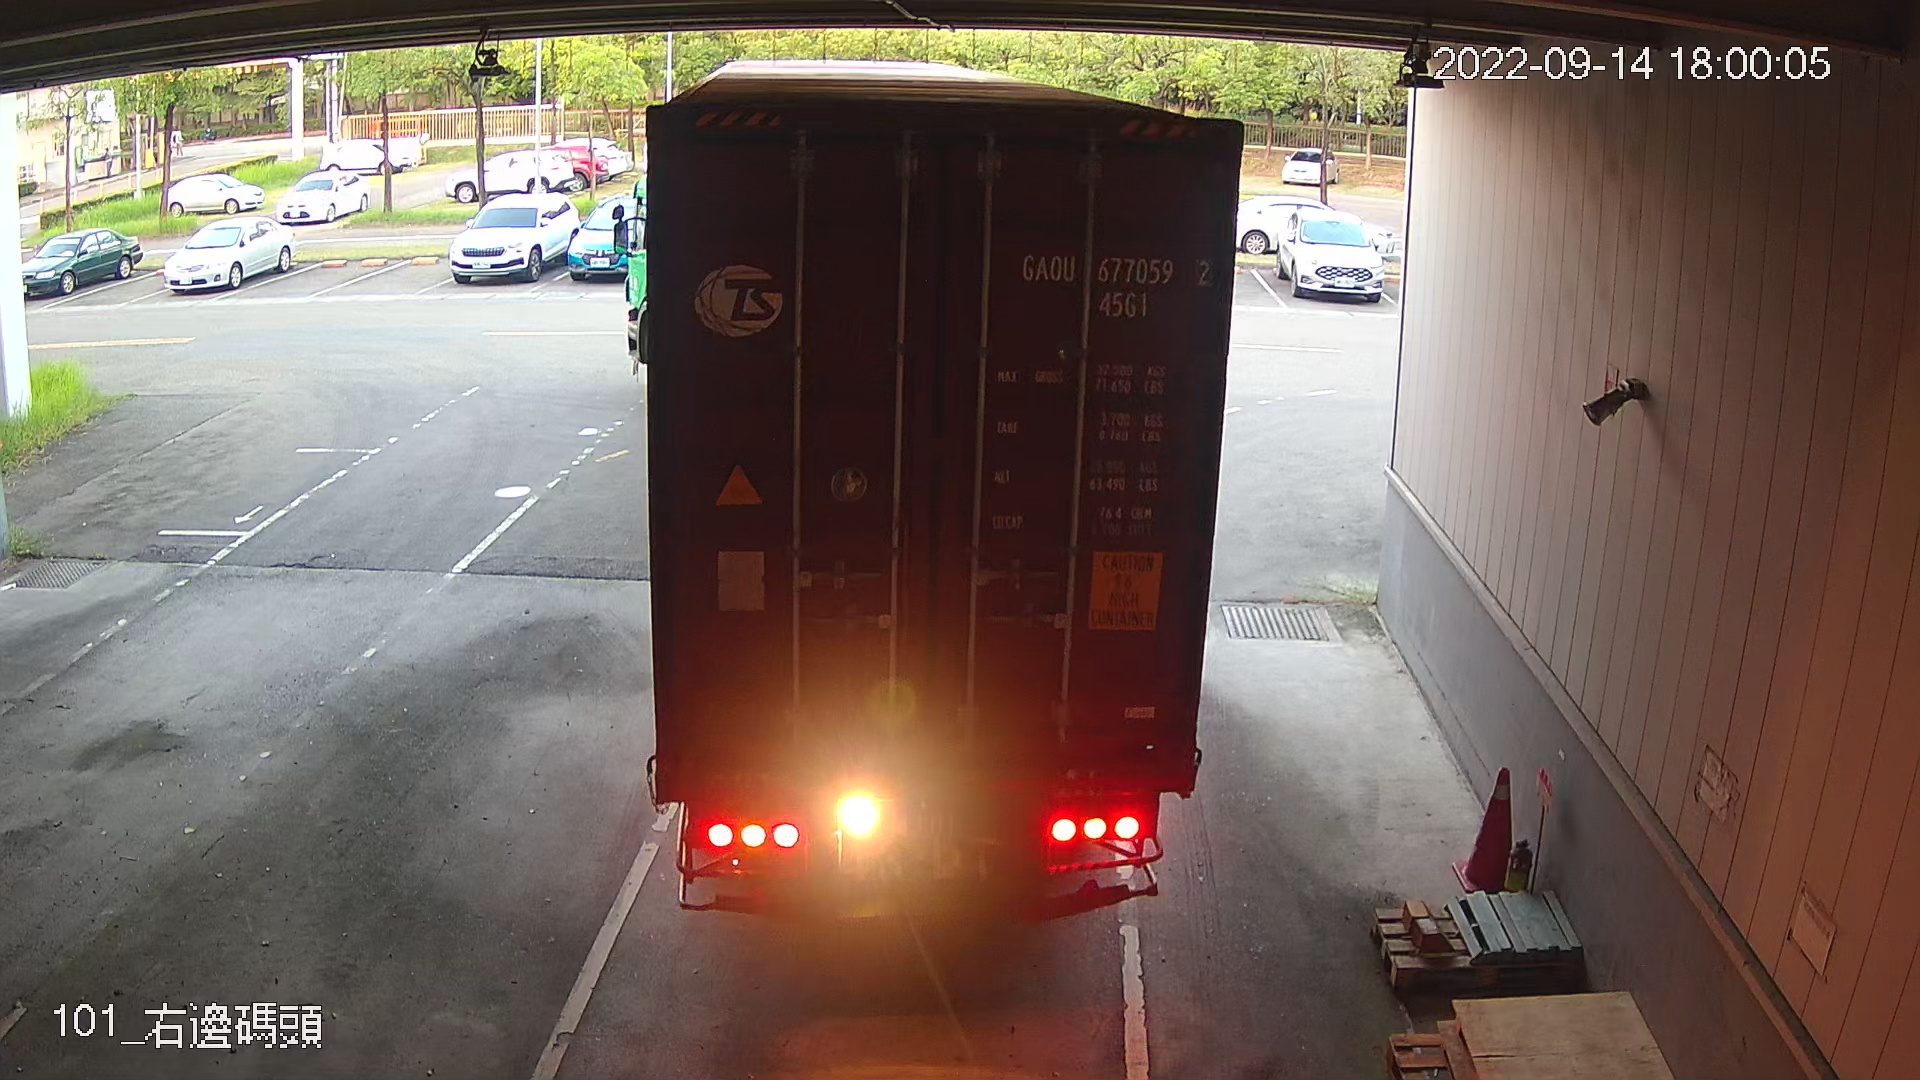container: (1009, 239, 1216, 324)
